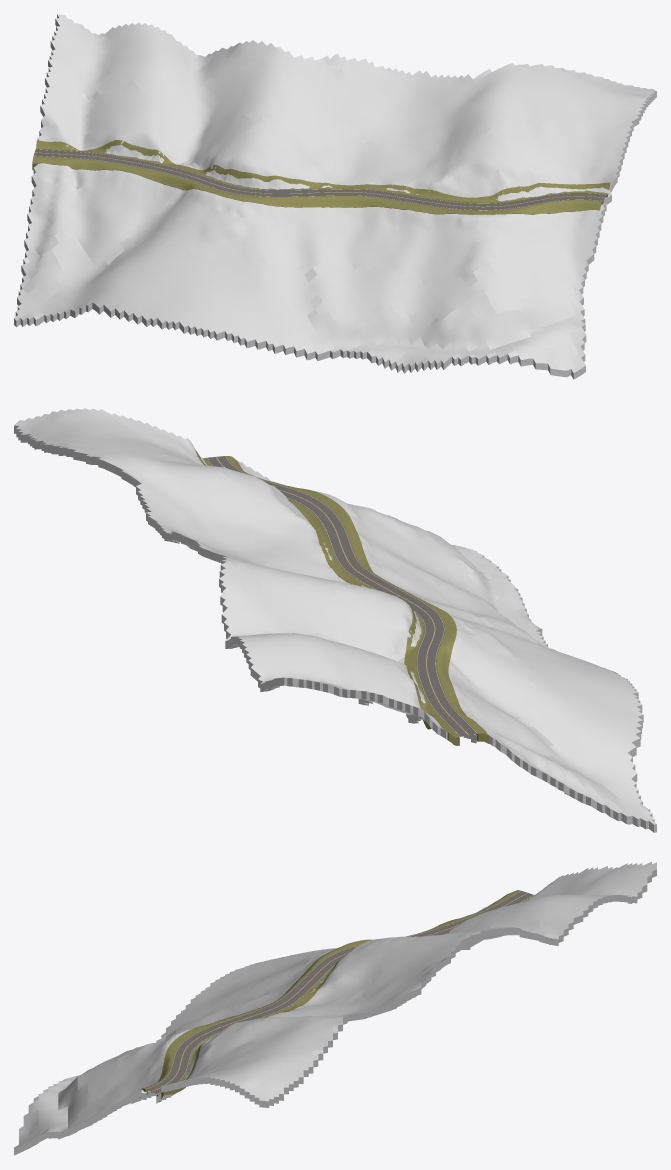
The model's file is conz_167.glb.
The picture shows the model from 3 angles, top to bottom: view 1: azimuth 30°, elevation 25°; view 2: azimuth 150°, elevation 25°; view 3: azimuth 270°, elevation 25°; orthographic projection. The views are drawn at different scales.
Parts seen in each view (by area): view 1: terrain167, verge167L, road167, verge167R; view 2: terrain167, road167, verge167L, verge167R; view 3: terrain167, road167, verge167L, verge167R.
Boxes of the visible parts, x1=… form: terrain167: x1=14, y1=14, x2=656, y2=379; verge167L: x1=32, y1=156, x2=602, y2=214; road167: x1=33, y1=149, x2=607, y2=210; verge167R: x1=36, y1=140, x2=610, y2=203; terrain167: x1=14, y1=408, x2=656, y2=832; road167: x1=206, y1=456, x2=477, y2=736; verge167L: x1=226, y1=456, x2=489, y2=743; verge167R: x1=195, y1=449, x2=459, y2=745; terrain167: x1=14, y1=861, x2=656, y2=1155; road167: x1=146, y1=891, x2=533, y2=1094; verge167L: x1=139, y1=890, x2=520, y2=1097; verge167R: x1=156, y1=895, x2=534, y2=1102.
Bounding box in the file's own units: 278 × 85.65 × 262.
